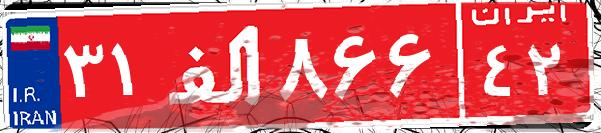1: (110, 28, 158, 105)
2: (525, 38, 570, 115)
3: (57, 26, 110, 107)
4: (475, 38, 525, 113)
6: (385, 28, 445, 110), (330, 28, 385, 110)
8: (273, 28, 330, 110)
الف: (158, 15, 273, 115)
